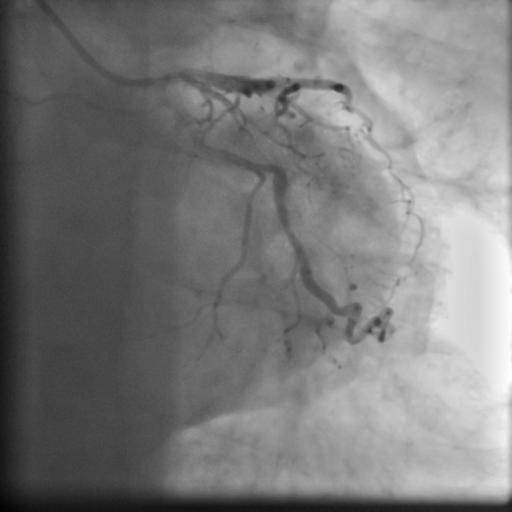Stenosis: (256, 155, 278, 184)
